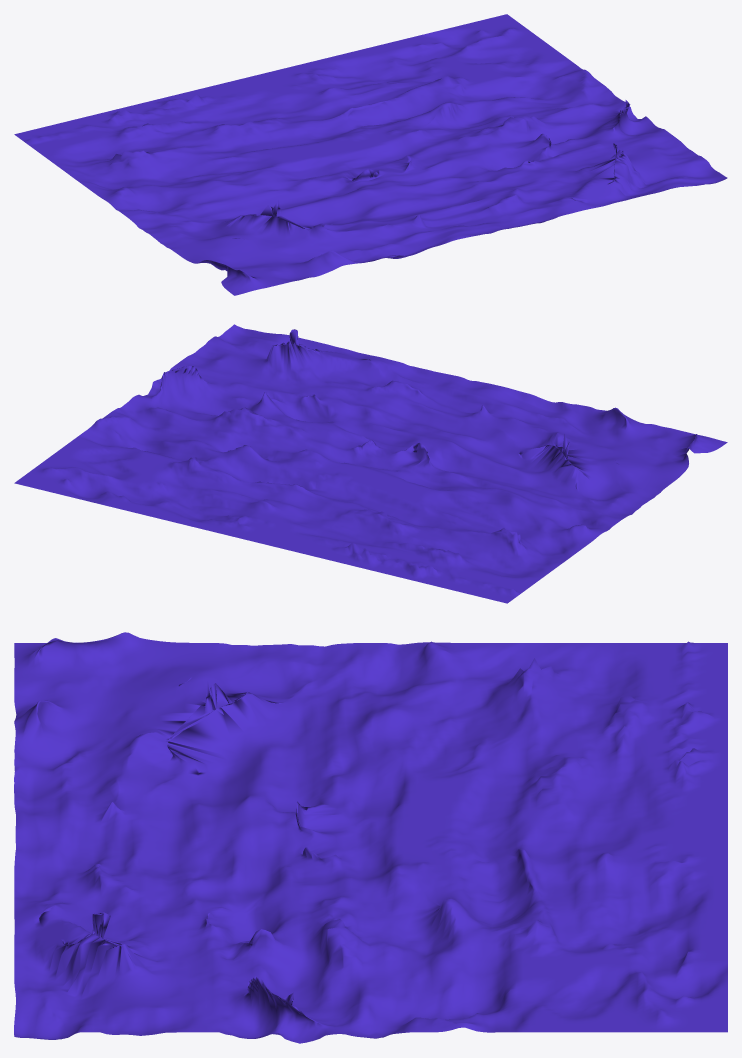
File: rio.glb
3 views of the same model, one above another, from view 1: azimuth 30°, elevation 25°; view 2: azimuth 150°, elevation 25°; view 3: azimuth 270°, elevation 25° (orthographic). The views are drawn at different scales.
Visible parts, largest first — view 1: Plane003; view 2: Plane003; view 3: Plane003.
Part boxes in pixels (x1,y1,x2,y2): Plane003: (14, 14, 727, 295); Plane003: (14, 324, 727, 603); Plane003: (14, 632, 727, 1043).
Size of the model in its own units: 99.58 by 9.07 by 77.04.
